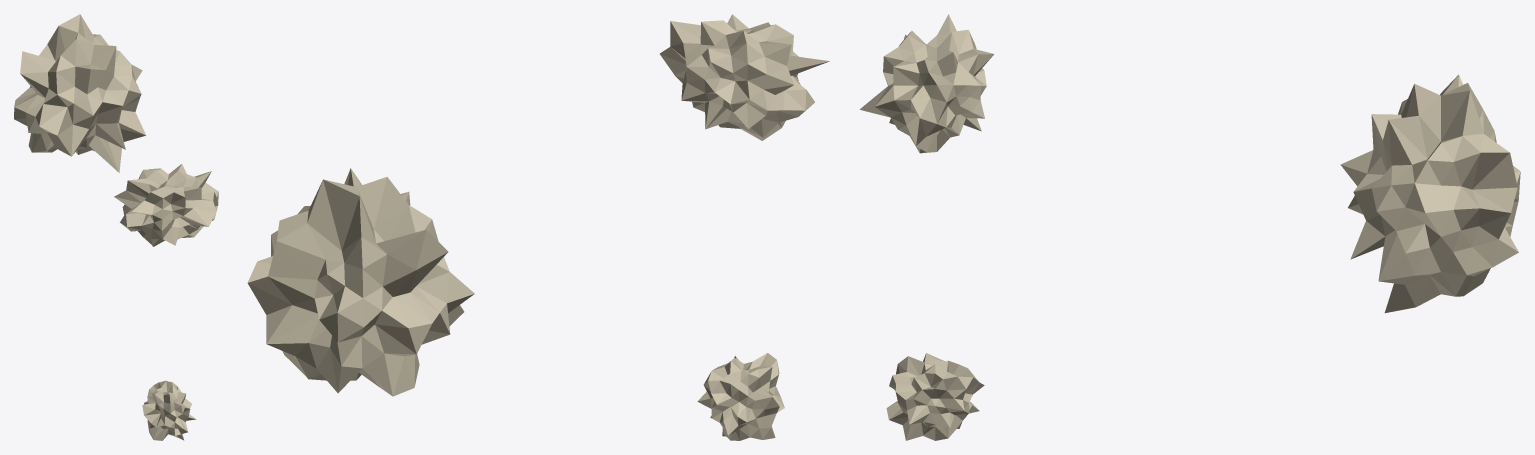
File: stones.glb
3 renders of one model, left to right at view 1: azimuth 30°, elevation 25°; view 2: azimuth 150°, elevation 25°; view 3: azimuth 270°, elevation 25°, orthographic. The views are drawn at different scales.
Parts seen in each view (by area): view 1: world; view 2: world; view 3: world.
Part boxes in pixels (box(x1,y1,x2,y2)): world: box(14, 14, 218, 440); world: box(247, 14, 829, 440); world: box(860, 14, 1520, 440).
Bounding box in the file's own units: 19.65 × 27.99 × 40.69.
